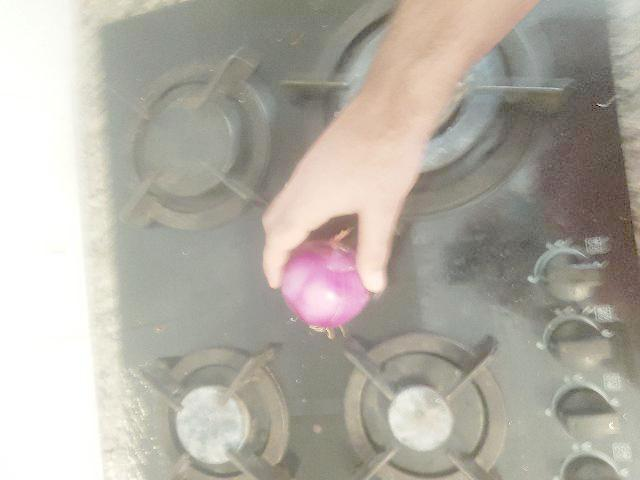onion: (158, 276, 251, 381)
